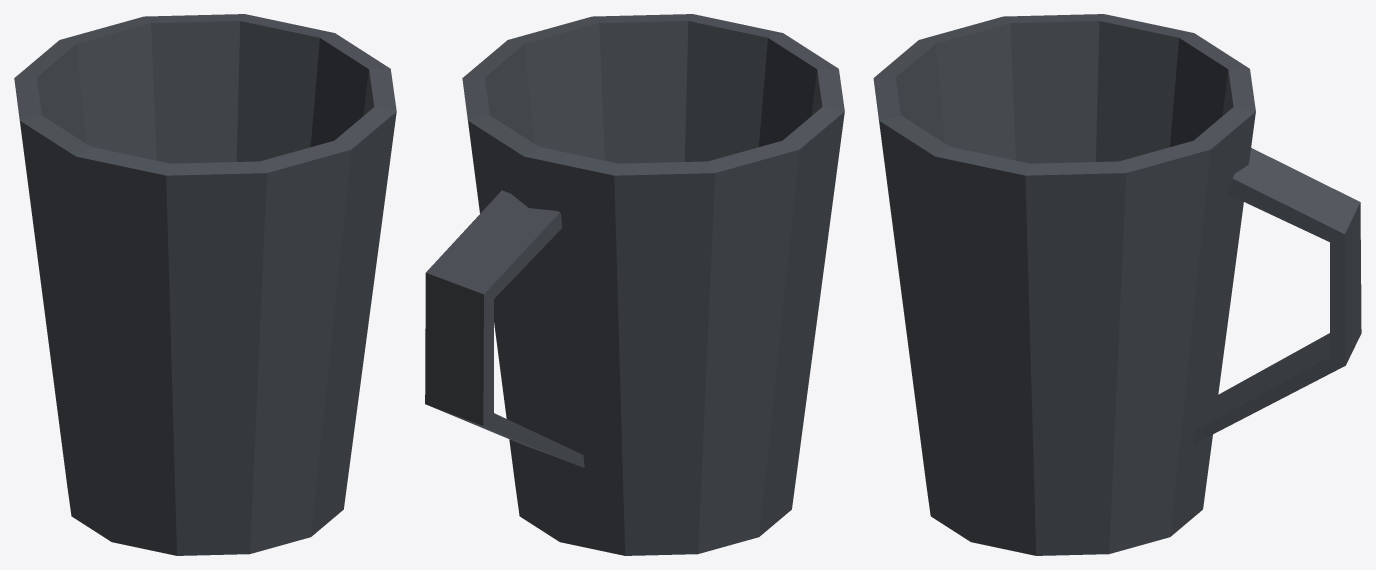
Rendered from WaterGlass_1.fbx.
3 views of the same model, side by side, from view 1: azimuth 30°, elevation 25°; view 2: azimuth 150°, elevation 25°; view 3: azimuth 270°, elevation 25° (orthographic).
Visible parts, largest first — view 1: WaterGlass_1; view 2: WaterGlass_1; view 3: WaterGlass_1.
Boxes of the visible parts, x1,y1,x2,y2 form: WaterGlass_1: (14,14,396,555); WaterGlass_1: (425,14,844,555); WaterGlass_1: (873,14,1361,555).
Bounding box in the file's own units: 14.22 × 16.63 × 18.15.
